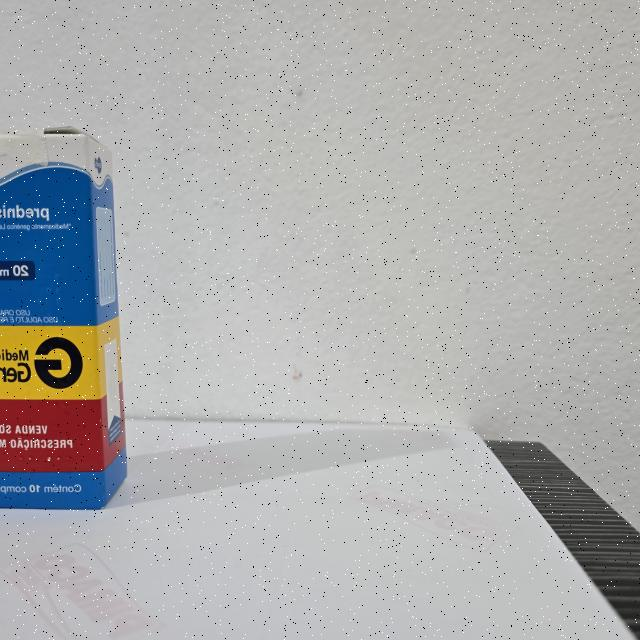prednisona: (0, 118, 131, 517)
